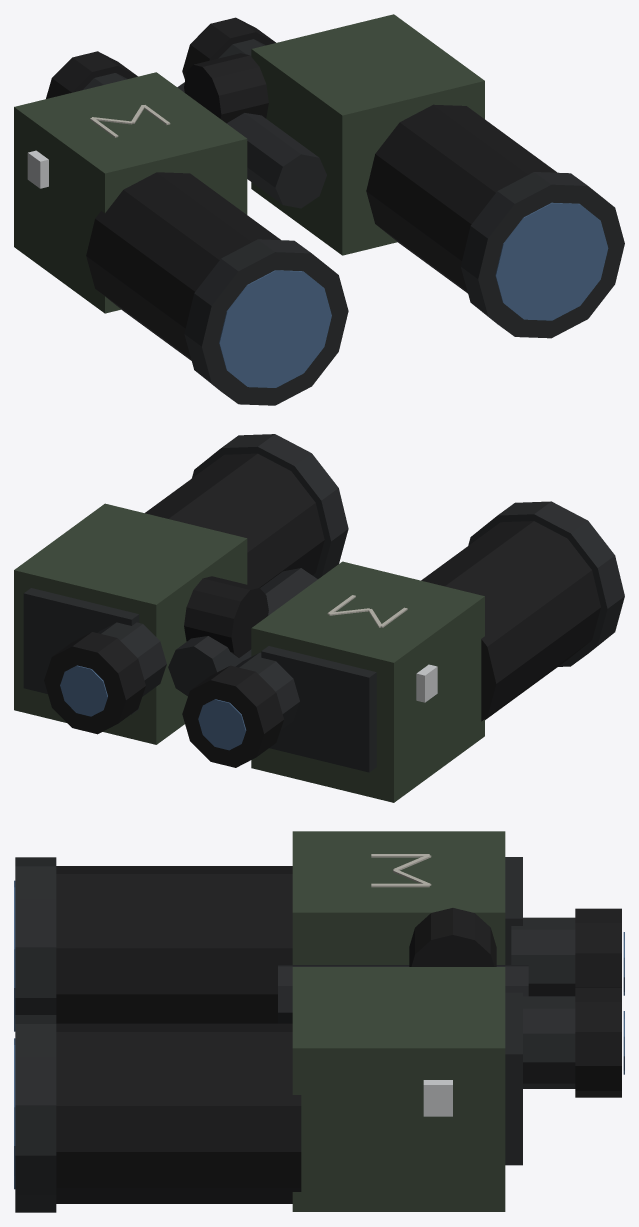
The model's file is binoculars.glb.
3 renders of one model, top to bottom at view 1: azimuth 30°, elevation 25°; view 2: azimuth 150°, elevation 25°; view 3: azimuth 270°, elevation 25°, orthographic. The views are drawn at different scales.
Visible parts, largest first — view 1: Binoculars; view 2: Binoculars; view 3: Binoculars.
Boxes of the visible parts, <box> form: Binoculars: <box>14,14,624,405</box>; Binoculars: <box>14,434,624,802</box>; Binoculars: <box>14,831,624,1212</box>.
Size of the model in its own units: 0.196 by 0.077 by 0.2095.
